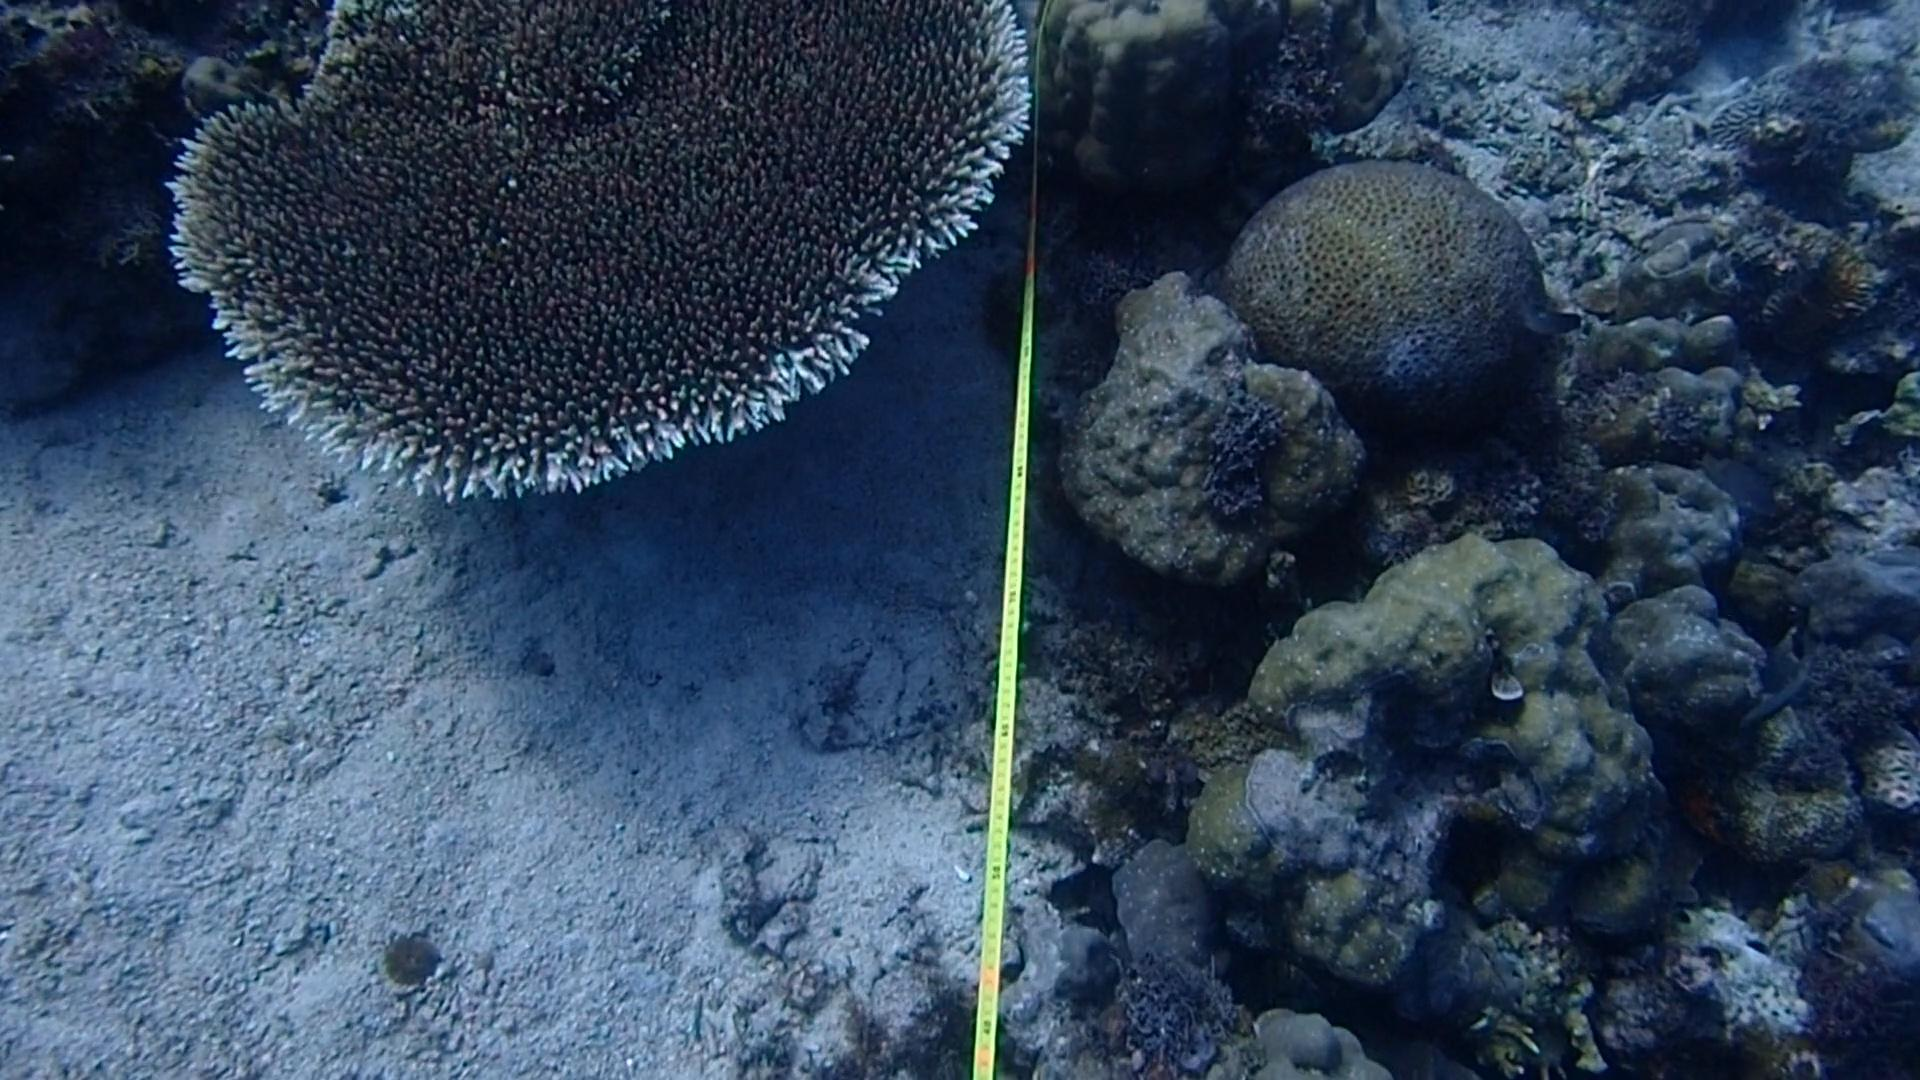Light Fish: (1499, 281, 1600, 353)
